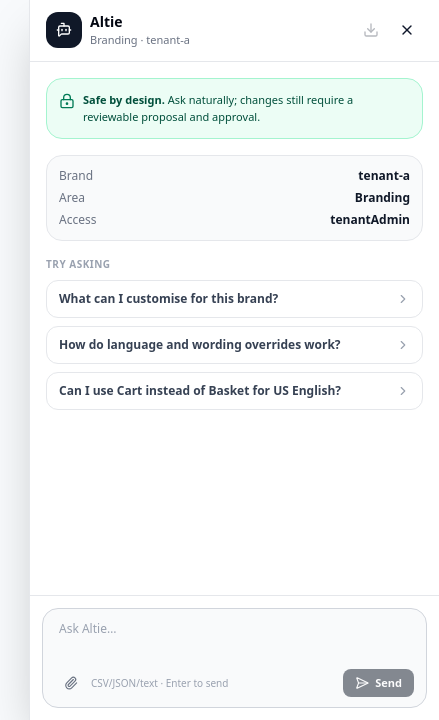
AdminAssistantDrawer trusted proposal flow › turns server proposal intent into a review-only ChangeSet without approving or applying it
What coordinates should you click on to do the following:
click the button "What can I customise for this brand?"
I would click on:
 (234, 299)
Its box is [46, 280, 423, 318].
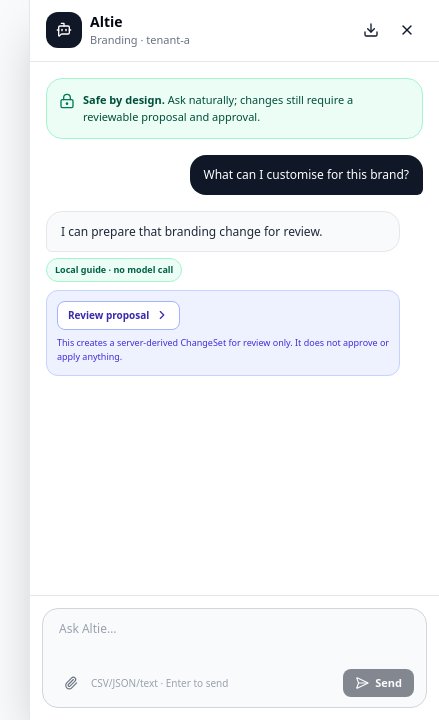
Check: the text "Review proposal" is shown
Check: the text "does not approve or apply anything" is shown, box [57, 336, 389, 363]
Check: the button "Review proposal" is shown
What coordinates should you click on to do the following:
click the button "Review proposal"
I would click on:
 (119, 315)
Its box is [57, 301, 180, 330].
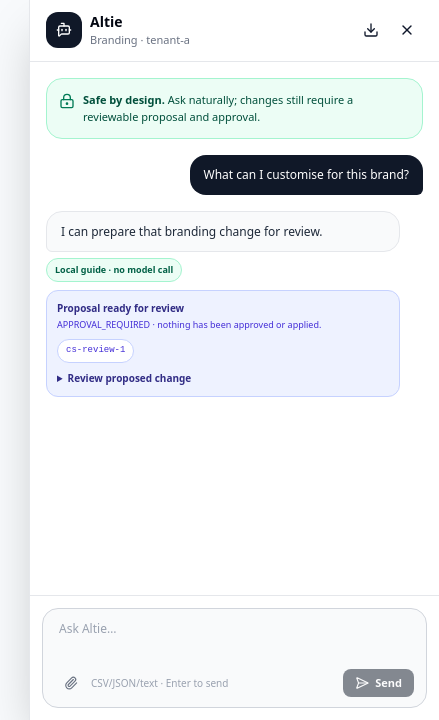
Check: the text "Proposal ready for review" is shown, box [57, 301, 184, 315]
Check: the text "APPROVAL_REQUIRED" is shown, box [57, 318, 150, 331]
Check: the text "cs-review-1" is shown, box [57, 339, 134, 363]
